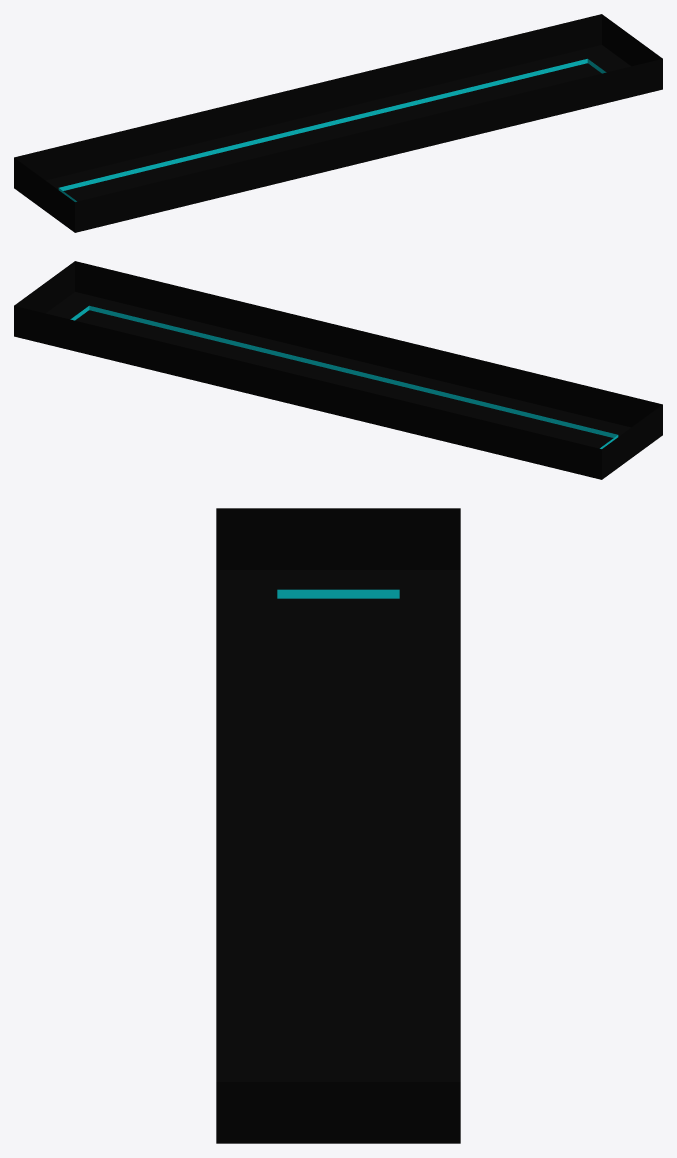
File: Light.fbx
3 views of the same model, one above another, from view 1: azimuth 30°, elevation 25°; view 2: azimuth 150°, elevation 25°; view 3: azimuth 270°, elevation 25° (orthographic). The views are drawn at different scales.
Visible parts, largest first — view 1: LightBase, LightEmission; view 2: LightBase, LightEmission; view 3: LightBase, LightEmission.
Boxes of the visible parts, box(x1,y1,x2,y2) form: LightBase: box(14, 14, 662, 232); LightEmission: box(58, 58, 606, 201); LightBase: box(14, 261, 662, 479); LightEmission: box(70, 305, 618, 448); LightBase: box(216, 508, 460, 1143); LightEmission: box(277, 589, 399, 598).
Bounding box in the file's own units: 400 × 25.88 × 72.
